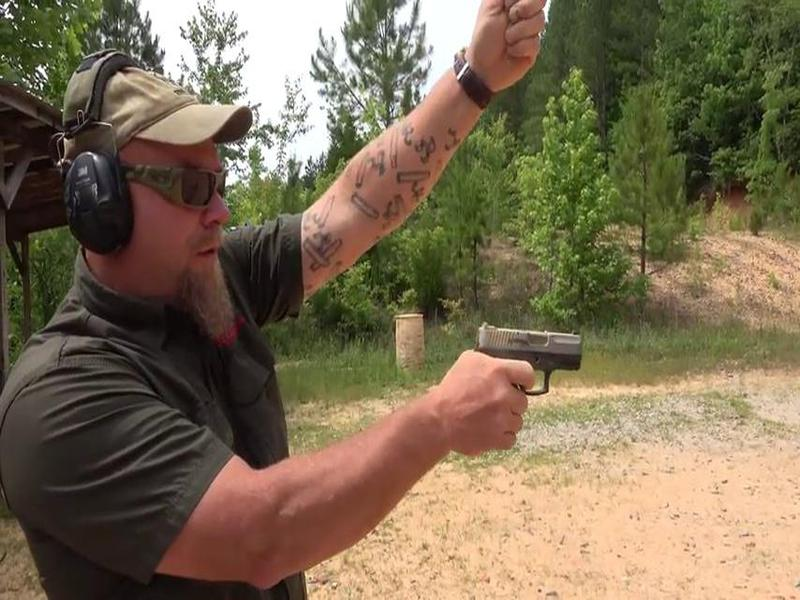Pistola: (475, 307, 590, 400)
